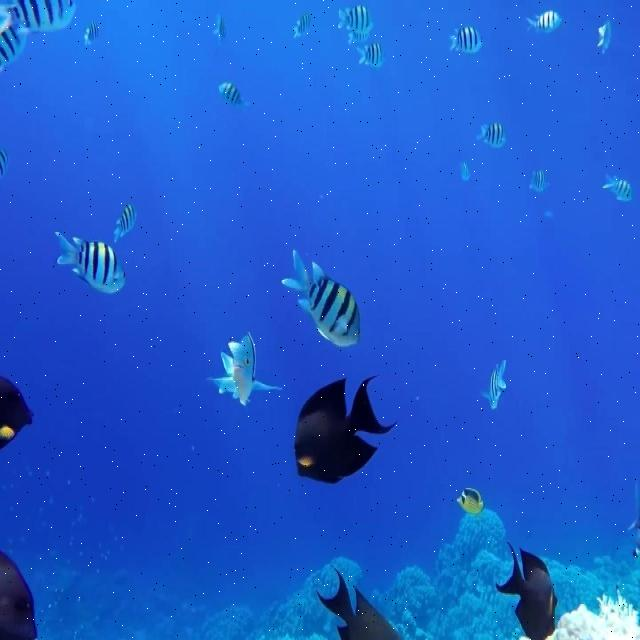fish: (292, 371, 400, 485), (281, 247, 362, 349), (313, 563, 403, 639), (201, 329, 286, 407), (492, 541, 559, 639), (51, 230, 126, 295), (0, 549, 39, 639), (0, 379, 36, 451), (0, 0, 76, 34), (481, 356, 510, 412), (0, 30, 28, 71), (337, 7, 379, 33), (597, 172, 633, 202), (475, 120, 509, 150), (449, 25, 482, 55), (525, 9, 563, 35), (113, 206, 139, 241), (456, 486, 485, 516), (217, 80, 247, 107), (355, 43, 385, 66), (597, 17, 614, 55), (530, 169, 551, 194), (292, 11, 310, 39), (83, 20, 103, 42), (0, 426, 14, 436)
